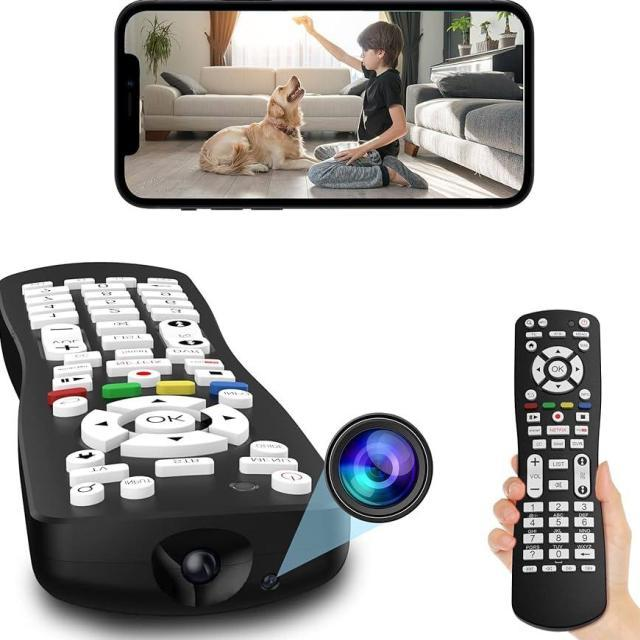hidden camera: (258, 566, 283, 600)
